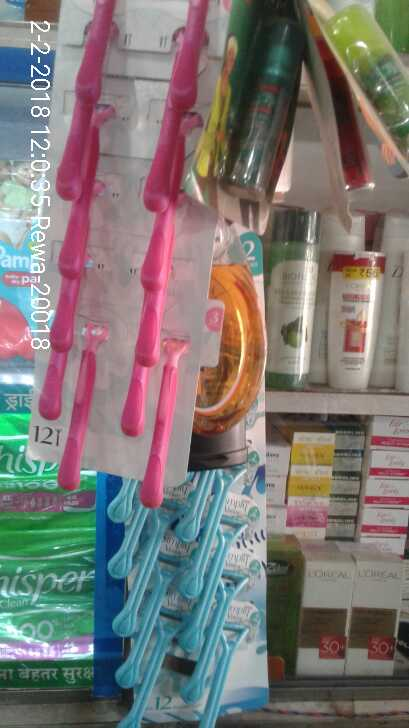reject: (202, 180, 299, 296)
